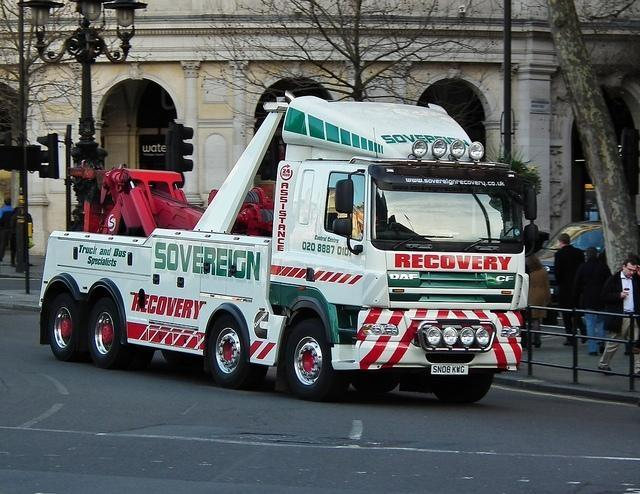car: (534, 220, 602, 296)
truck: (36, 101, 534, 396)
